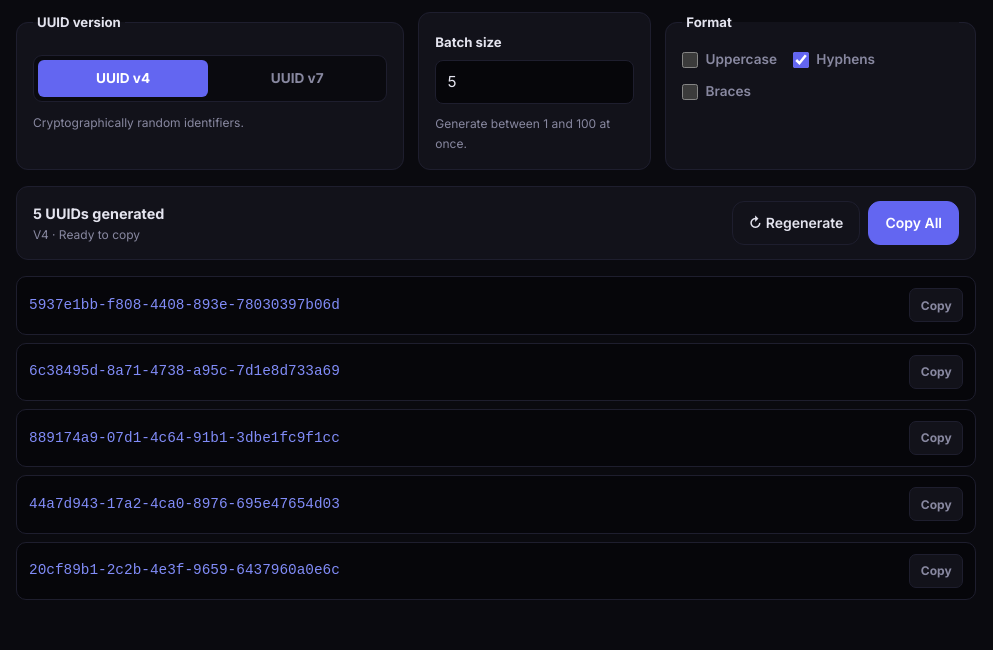
Test: UuidTool clipboard management › copies every formatted UUID separated by newlines
What coordinates should you click on to do the following:
click the checkbox labelled "Uppercase"
I would click on:
 (690, 60)
Its box is 682,52 -> 698,68.
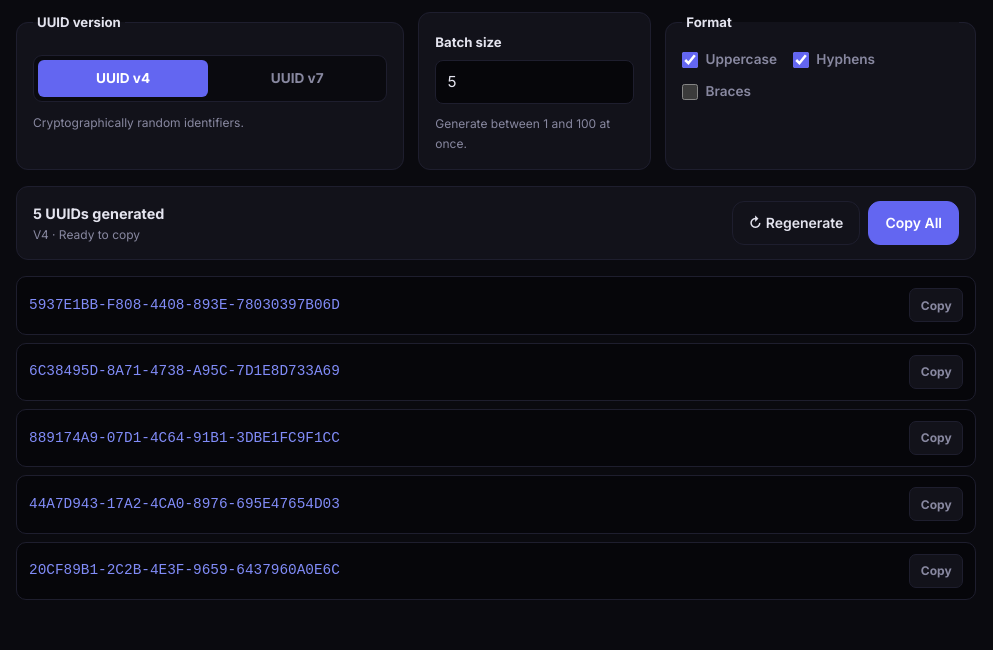
What coordinates should you click on to do the following:
click the checkbox labelled "Braces"
I would click on:
 (690, 92)
Its box is 682,84 -> 698,100.
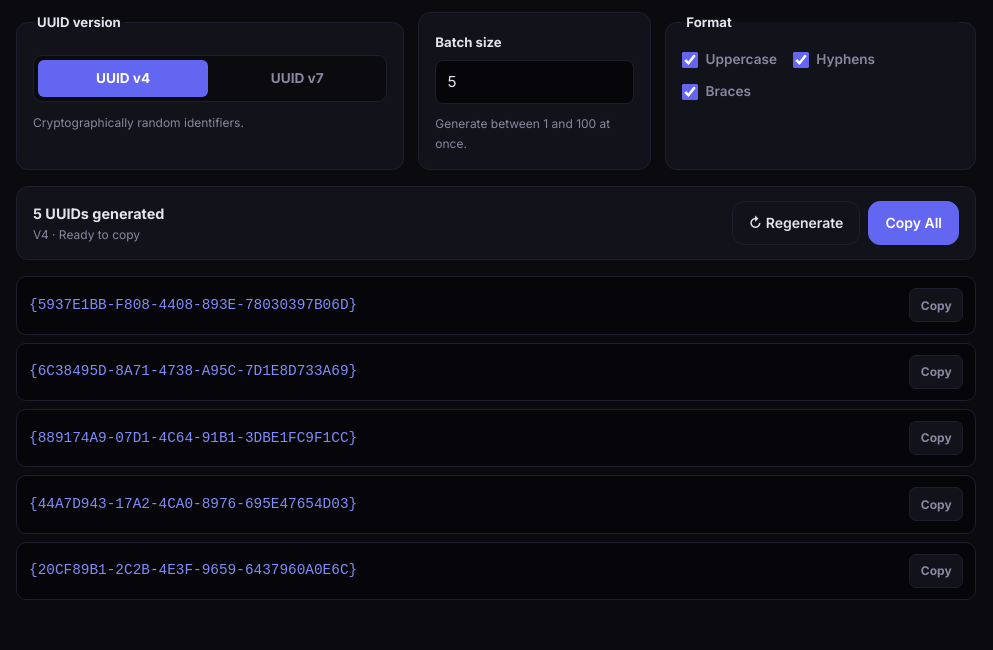
What coordinates should you click on to do the following:
click the button with aria-label "Copy all UUIDs"
I would click on:
 (914, 223)
Its box is 868,201 -> 959,245.
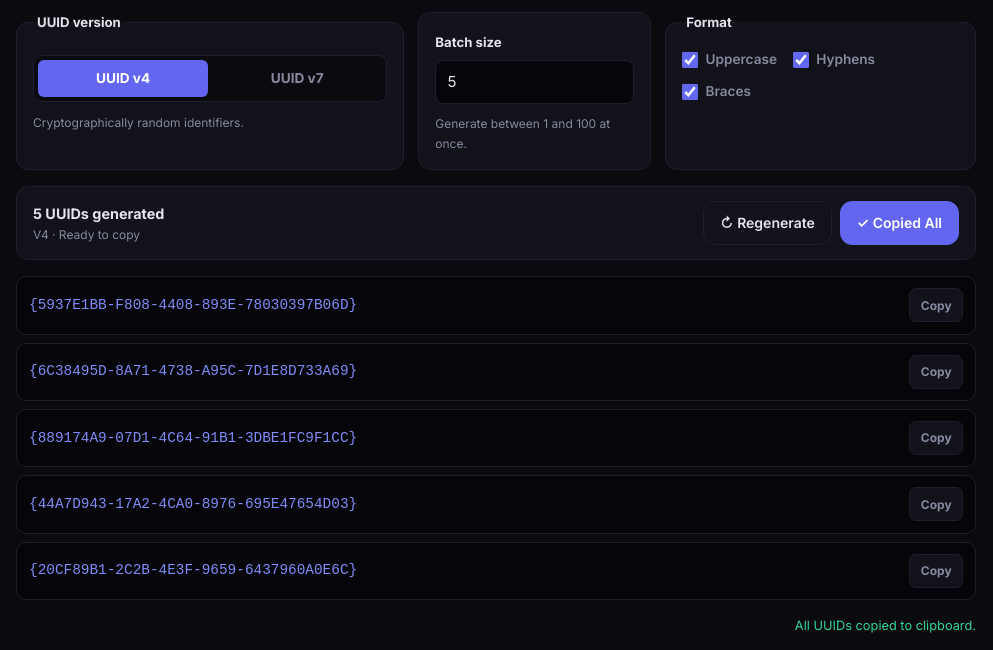
Check: the button with aria-label "All UUIDs copied" is shown, box 840,201 -> 959,245
Check: the message reads "All UUIDs copied to clipboard.", box 795,618 -> 976,633
